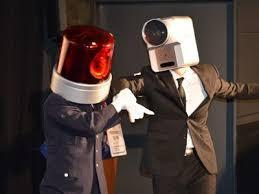no more kid: (138, 13, 203, 73)
